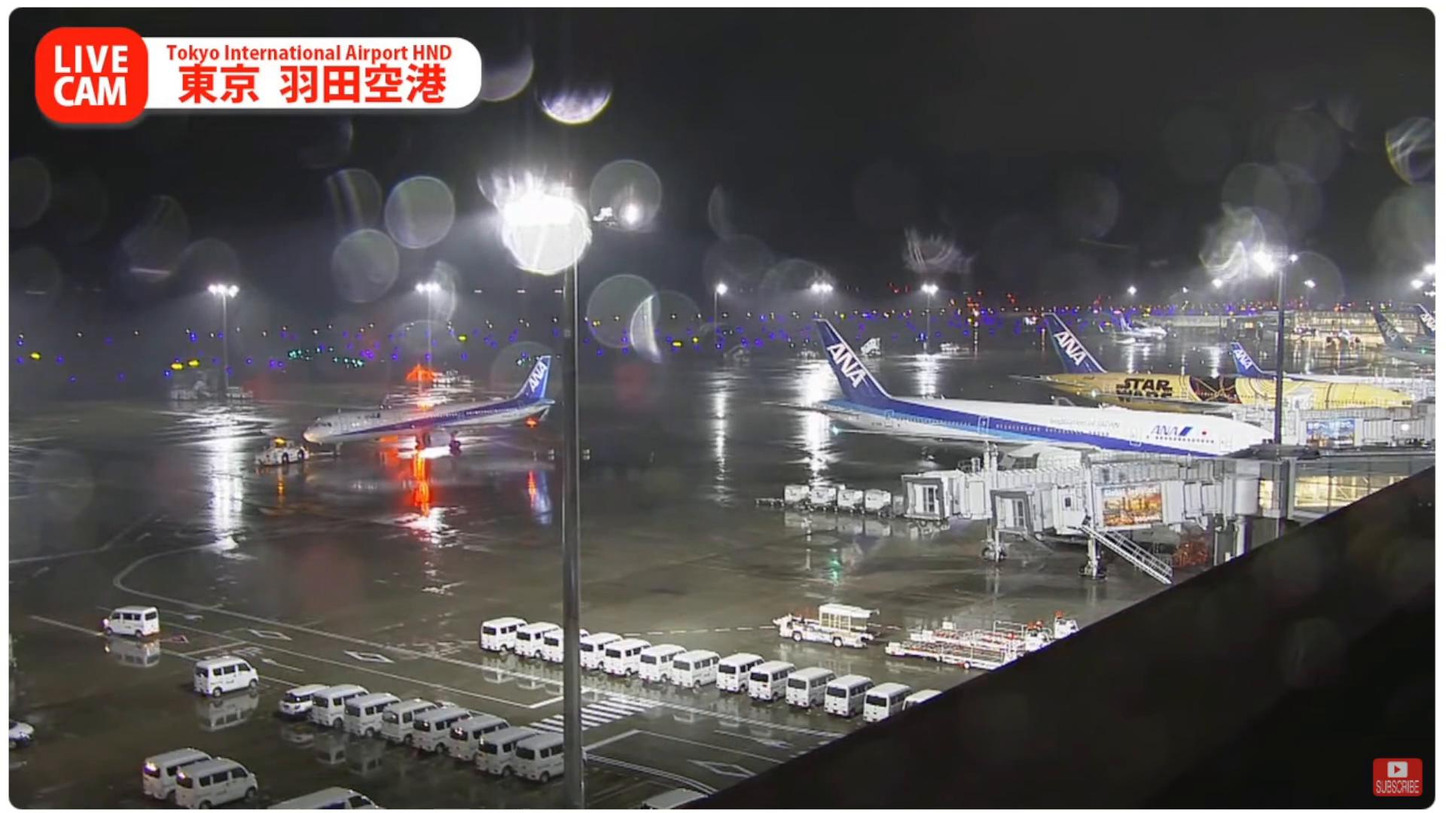APS: (251, 438, 312, 469)
Aerobridge: (898, 461, 1193, 525), (988, 473, 1227, 539)
Airplane: (297, 350, 559, 451)
Dolly: (781, 482, 896, 523)
JCPL: (914, 617, 1081, 654), (884, 636, 1033, 667)
Skyloader: (771, 602, 883, 649)
Window: (1289, 476, 1414, 509)
